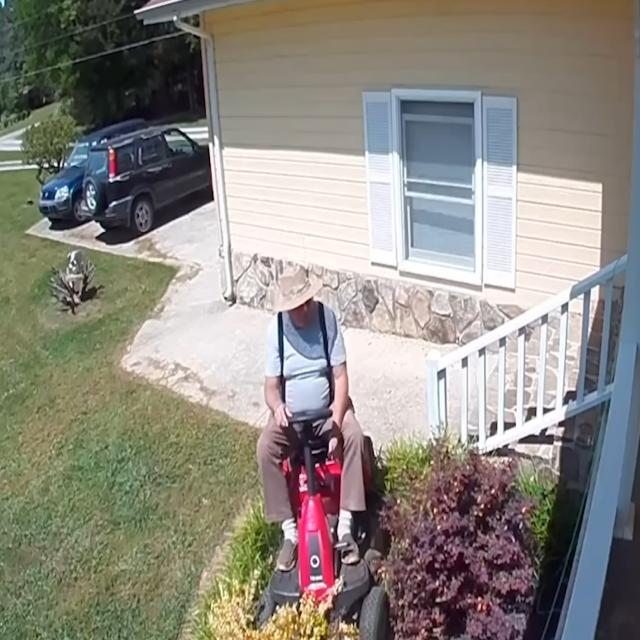sitting: (257, 267, 367, 572)
